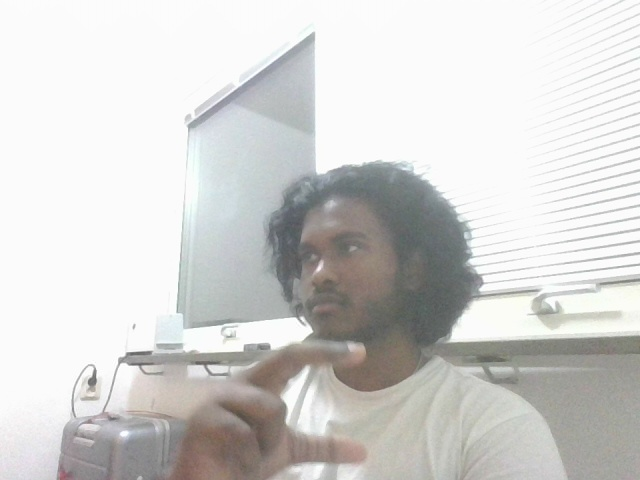no: (175, 329, 369, 480)
